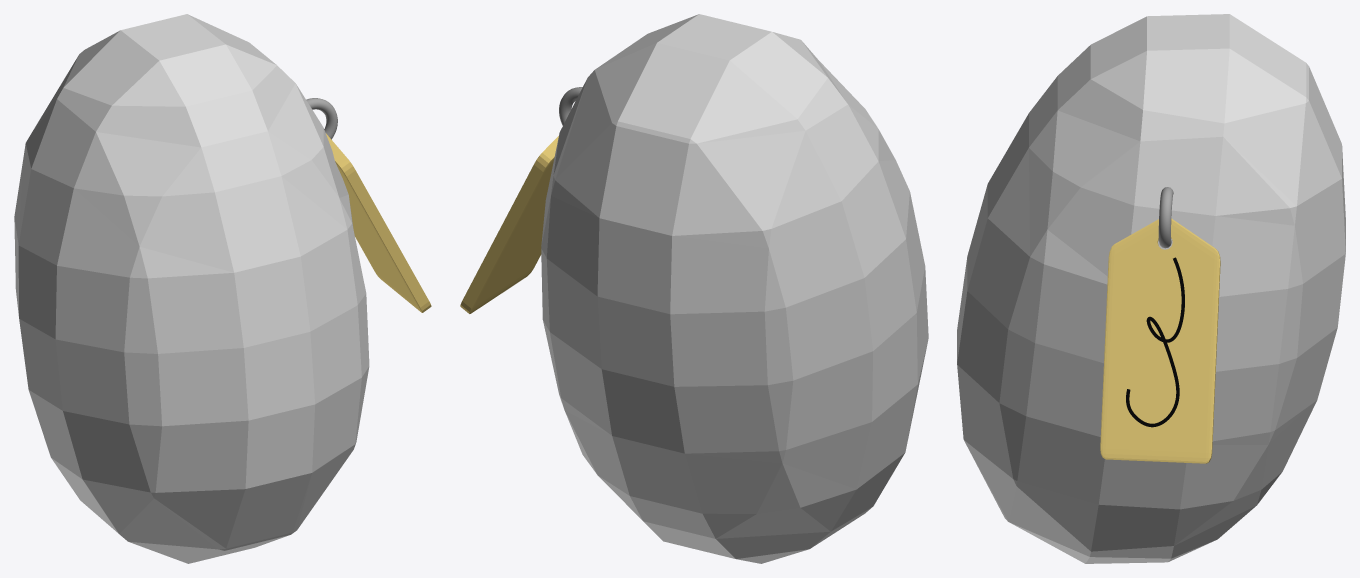
The model's file is DedPotato.fbx.
The picture shows the model from 3 angles, left to right: view 1: azimuth 30°, elevation 25°; view 2: azimuth 150°, elevation 25°; view 3: azimuth 270°, elevation 25°; orthographic projection. The views are drawn at different scales.
Visible parts, largest first — view 1: Body.001; view 2: Body.001; view 3: Body.001.
Part boxes in pixels (x1,y1,x2,y2): Body.001: [14, 14, 431, 563]; Body.001: [460, 14, 928, 563]; Body.001: [957, 14, 1345, 563].
Size of the model in its own units: 282 by 347 by 238.
